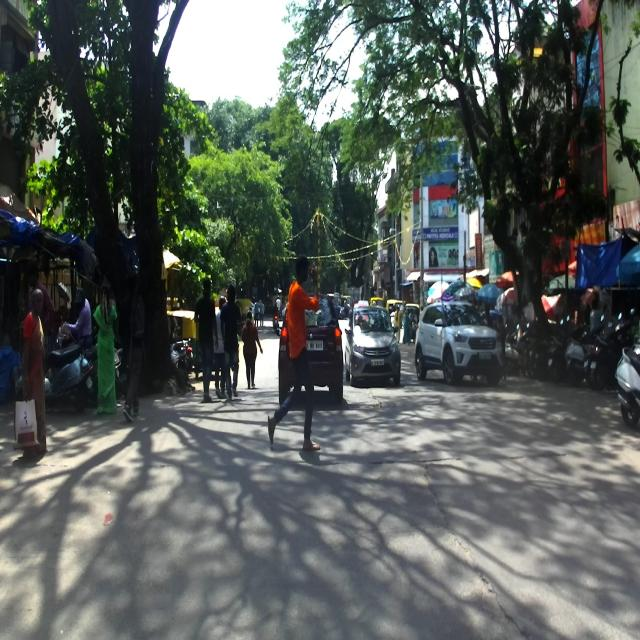car: (413, 300, 504, 385), (278, 293, 344, 407)
scooter: (15, 340, 93, 418)
